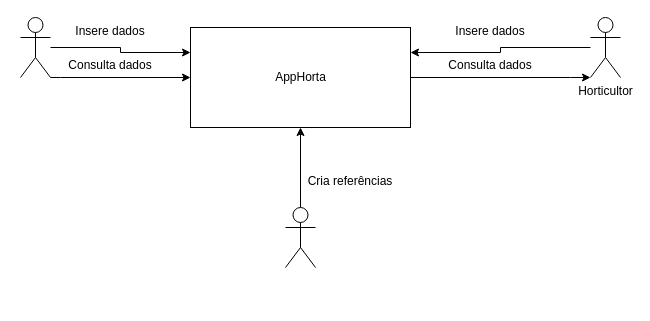
This 650x321 diagram has some shape labels left out. The shapes that lost their labels are listed below. From the top down, each one's centre as x and y in pixels, then its label:
At point (35, 47): "Gestor horta".
At point (300, 237): "Sistema de criação de referências".
